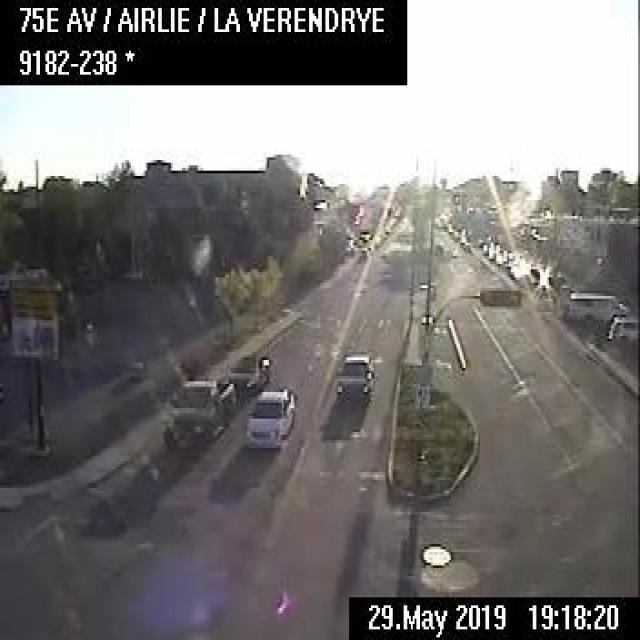vehicle: (160, 374, 234, 448), (242, 383, 295, 449), (333, 349, 374, 408), (563, 289, 628, 323), (229, 352, 269, 394), (606, 313, 638, 343)
